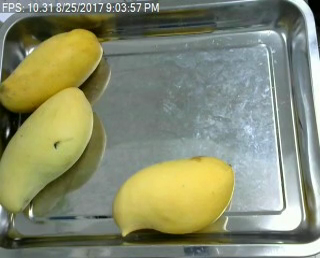Mango: (0, 85, 94, 216), (112, 154, 236, 240), (0, 28, 104, 112)
